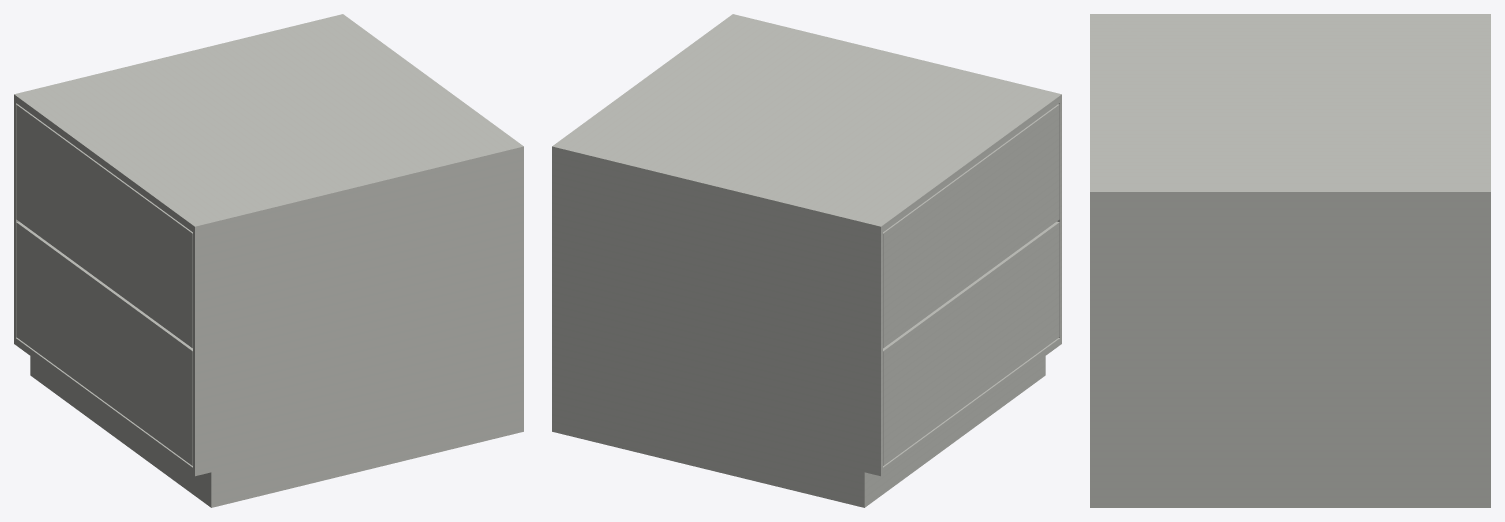
The model's file is SM_Shelf_1.fbx.
3 views of the same model, side by side, from view 1: azimuth 30°, elevation 25°; view 2: azimuth 150°, elevation 25°; view 3: azimuth 270°, elevation 25° (orthographic). The views are drawn at different scales.
Visible parts, largest first — view 1: SM_Shelf_1; view 2: SM_Shelf_1; view 3: SM_Shelf_1.
Part boxes in pixels (bbox=[...]): SM_Shelf_1: bbox=[14, 14, 523, 507]; SM_Shelf_1: bbox=[552, 14, 1061, 507]; SM_Shelf_1: bbox=[1090, 14, 1490, 507].
Size of the model in its own units: 0.63 by 0.5219 by 0.6.
Materials: 1 (1 with a texture image).
